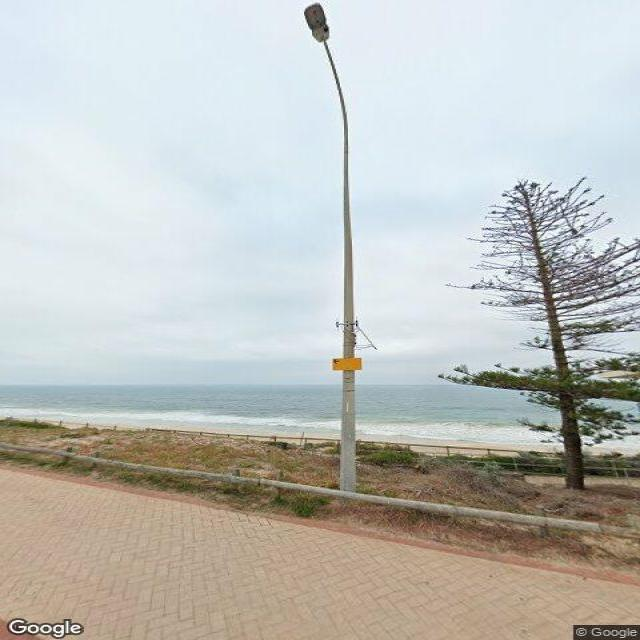steel-pole: (337, 122, 361, 494)
streetlight: (303, 2, 349, 142)
